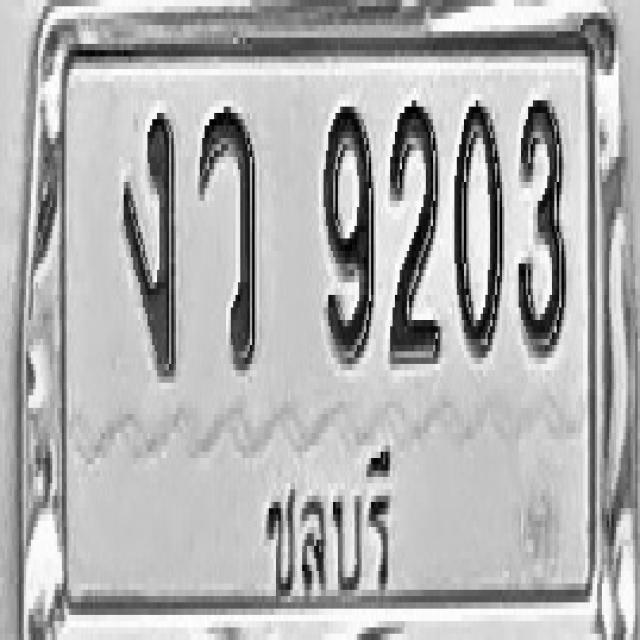0: (453, 94, 503, 358)
16NgorNgu: (121, 106, 176, 376)
2: (389, 97, 441, 361)
3: (516, 91, 566, 354)
46WorWaen: (197, 100, 257, 370)
9: (321, 97, 374, 361)
Chonburi: (252, 435, 399, 603)
